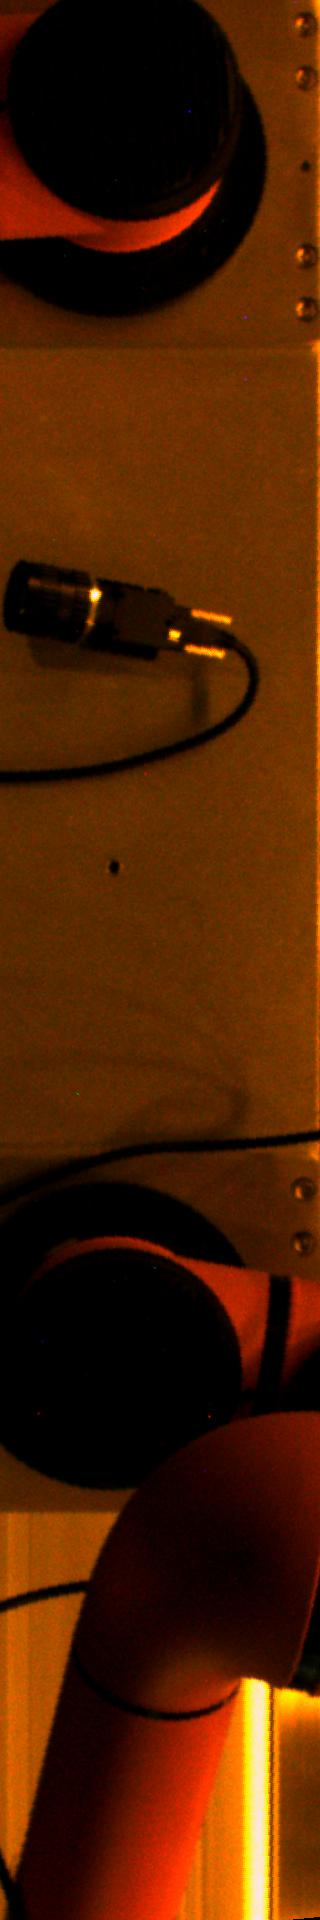keyPoint_2: (98, 852, 128, 882)
